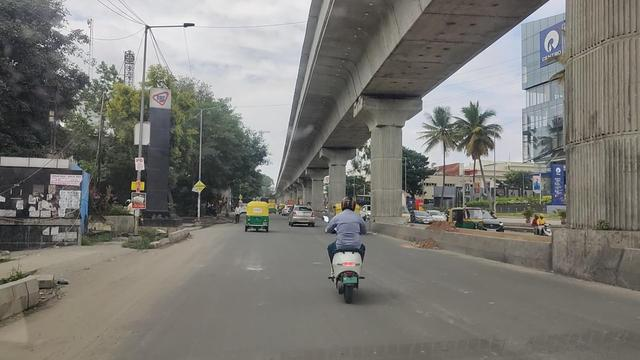LMV: (327, 190, 373, 313), (246, 201, 273, 232)
